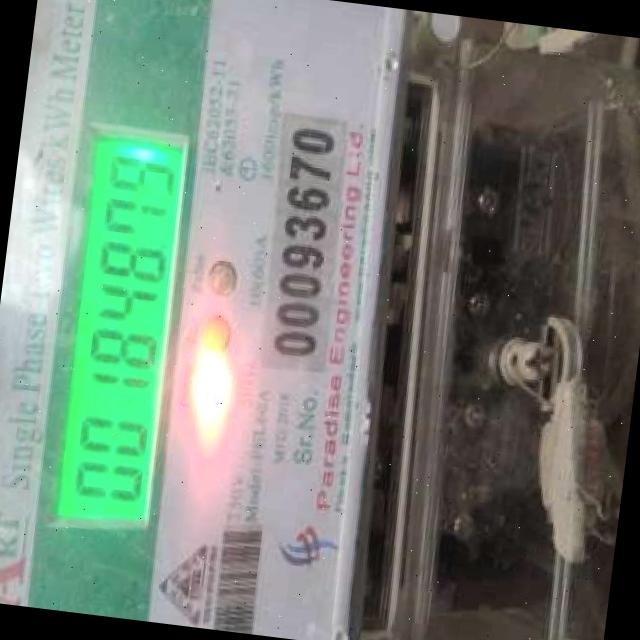LCD: (27, 96, 212, 547)
